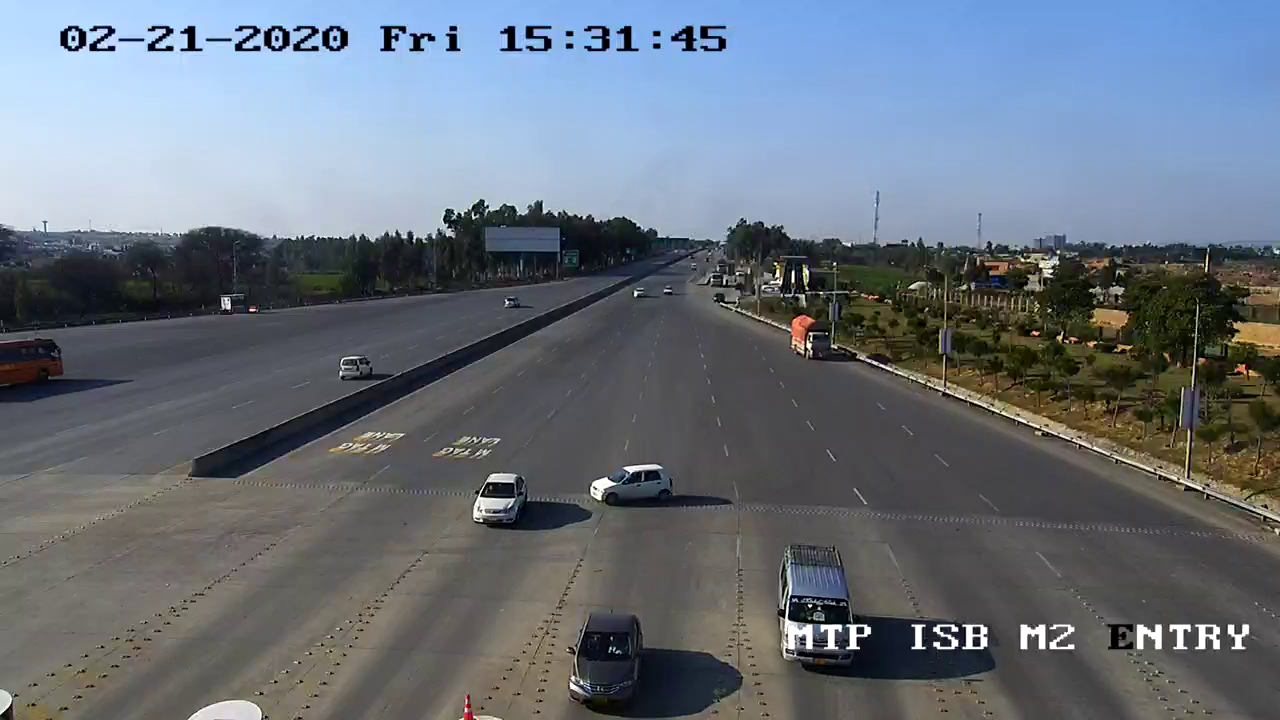f1: (552, 604, 665, 717), (464, 460, 537, 536)
